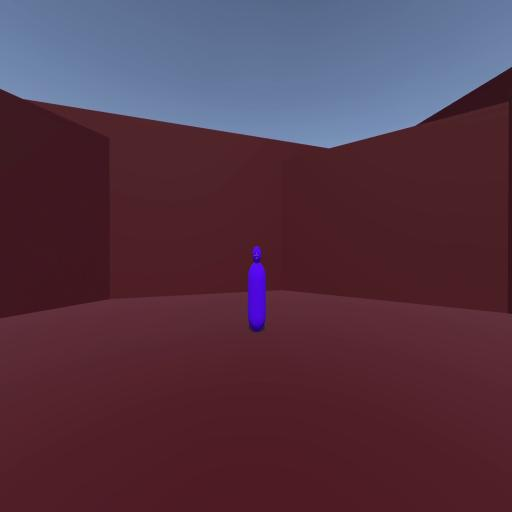Crosshair: (254, 252, 258, 261)
Target: (246, 243, 266, 332)
